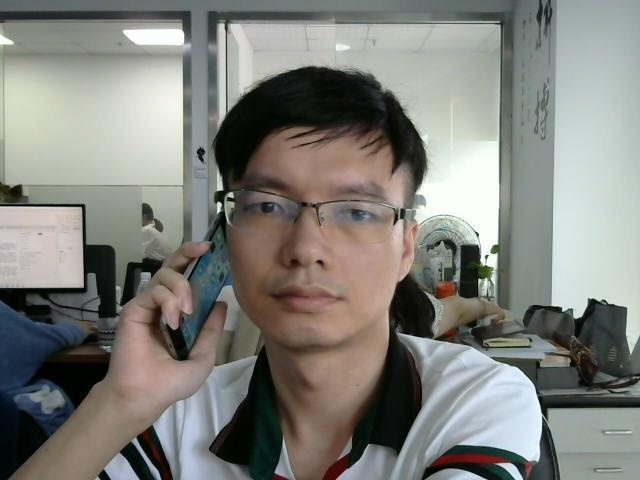hand: (116, 238, 219, 400)
